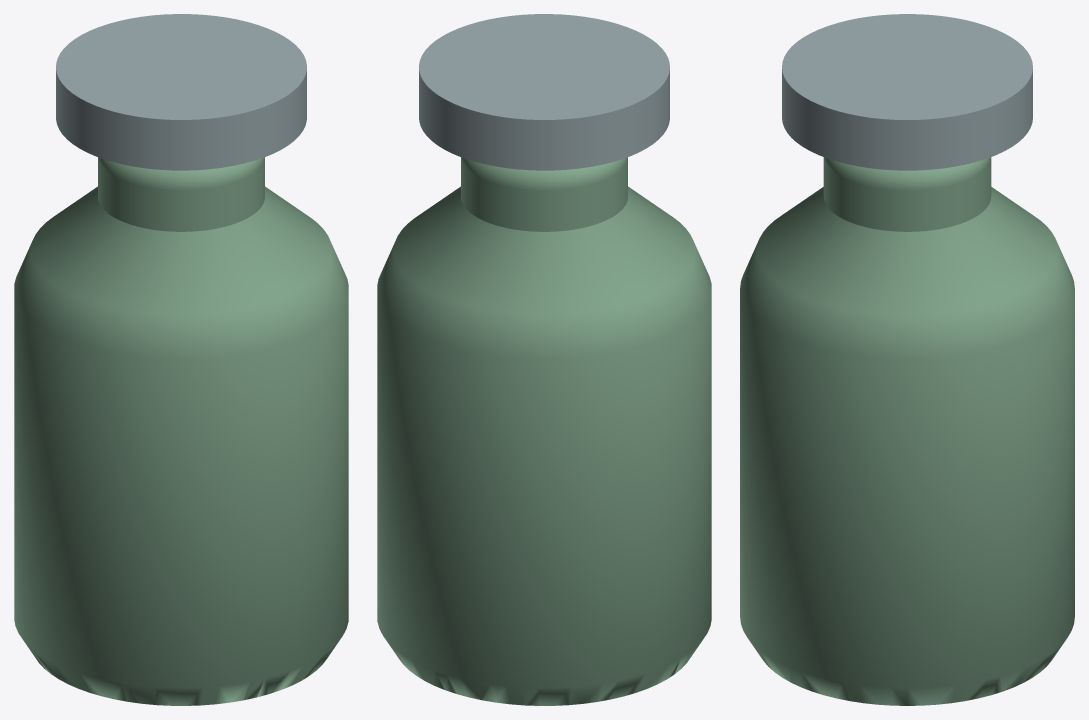
Rendered from blowmolding.glb.
3 views of the same model, side by side, from view 1: azimuth 30°, elevation 25°; view 2: azimuth 150°, elevation 25°; view 3: azimuth 270°, elevation 25° (orthographic).
Parts seen in each view (by area): view 1: Bottle wall, Annular head, Parison; view 2: Bottle wall, Annular head, Parison, Bottle wall.001; view 3: Bottle wall, Annular head, Parison.
Boxes of the visible parts, left/top/right/bottom form: Bottle wall: left=14, top=186, right=348, bottom=705; Annular head: left=56, top=14, right=306, bottom=170; Parison: left=98, top=157, right=264, bottom=231; Bottle wall: left=377, top=186, right=711, bottom=705; Annular head: left=419, top=14, right=669, bottom=170; Parison: left=461, top=157, right=627, bottom=231; Bottle wall.001: left=476, top=682, right=586, bottom=705; Bottle wall: left=740, top=187, right=1074, bottom=705; Annular head: left=782, top=14, right=1032, bottom=170; Parison: left=823, top=157, right=991, bottom=231.
Bounding box in the file's own units: 2.4 × 4.58 × 2.4.
